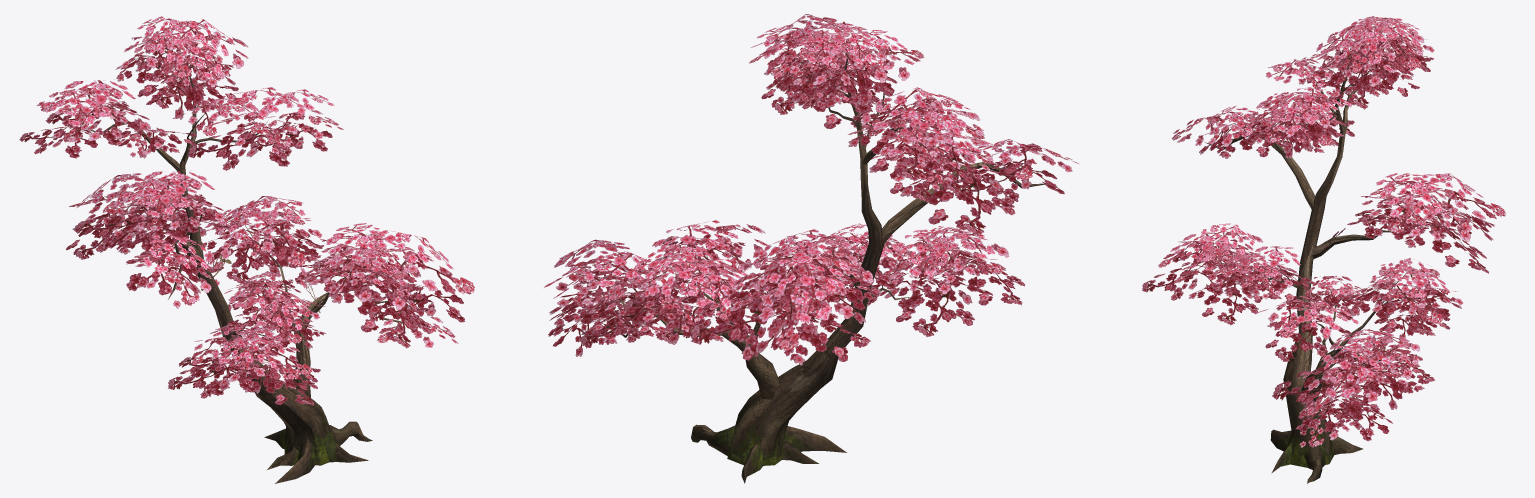
The model's file is Plant_3002_zhiwu01_taohua02.FBX.
3 renders of one model, left to right at view 1: azimuth 30°, elevation 25°; view 2: azimuth 150°, elevation 25°; view 3: azimuth 270°, elevation 25°, orthographic. The views are drawn at different scales.
Parts seen in each view (by area): view 1: Plant_3002_zhiwu01_taohua02; view 2: Plant_3002_zhiwu01_taohua02; view 3: Plant_3002_zhiwu01_taohua02.
Boxes of the visible parts, x1=… form: Plant_3002_zhiwu01_taohua02: x1=19, y1=16, x2=474, y2=483; Plant_3002_zhiwu01_taohua02: x1=544, y1=14, x2=1078, y2=483; Plant_3002_zhiwu01_taohua02: x1=1142, y1=16, x2=1505, y2=483.
Bounding box in the file's own units: 2608 × 2415 × 2156.
